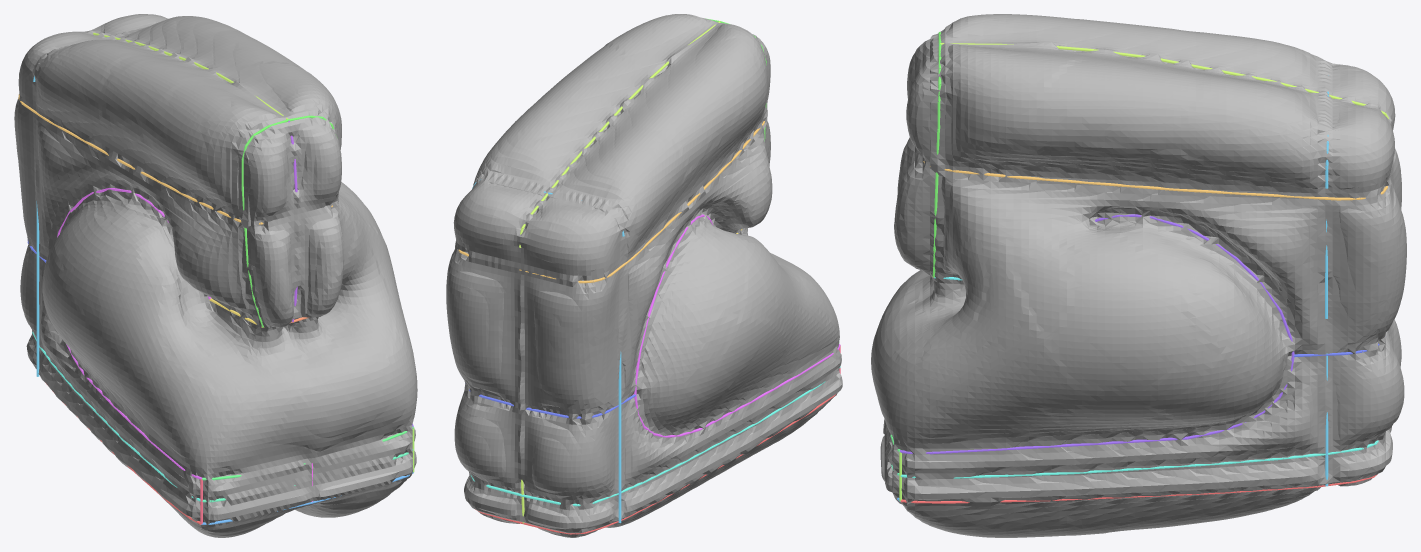
File: t2f_sewing_machine.gltf
The picture shows the model from 3 angles, left to right: view 1: azimuth 30°, elevation 25°; view 2: azimuth 150°, elevation 25°; view 3: azimuth 270°, elevation 25°; orthographic projection. The views are drawn at different scales.
Bounding box in the file's own units: 0.4969 × 0.7153 × 0.7376.
